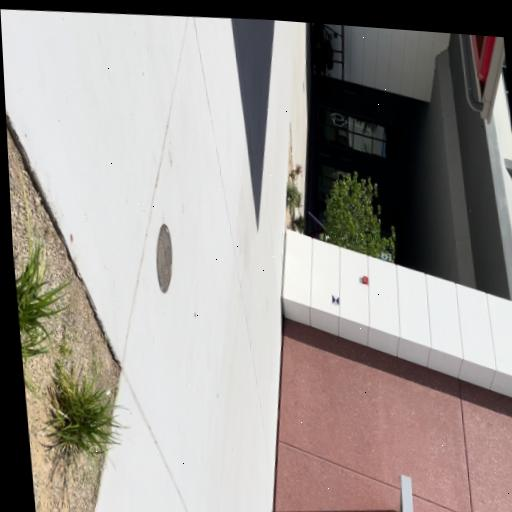target9: (332, 294, 339, 306)
